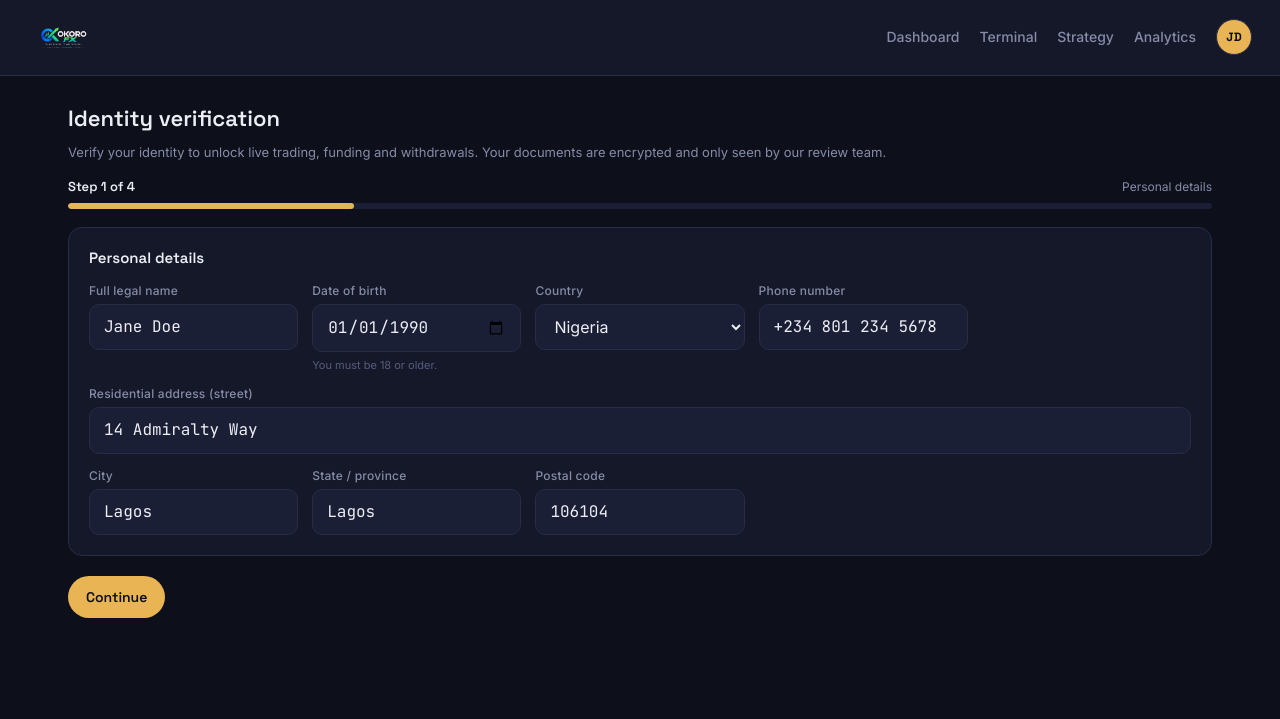
VerificationPage › the review screen trusts the server and blocks submit when the number is missing
expect the field labelled "Full legal name" is shown: met, box x1=89 y1=304 x2=298 y2=350
Step 1. Click the button "Continue" → point(117, 597), box x1=68 y1=576 x2=165 y2=618
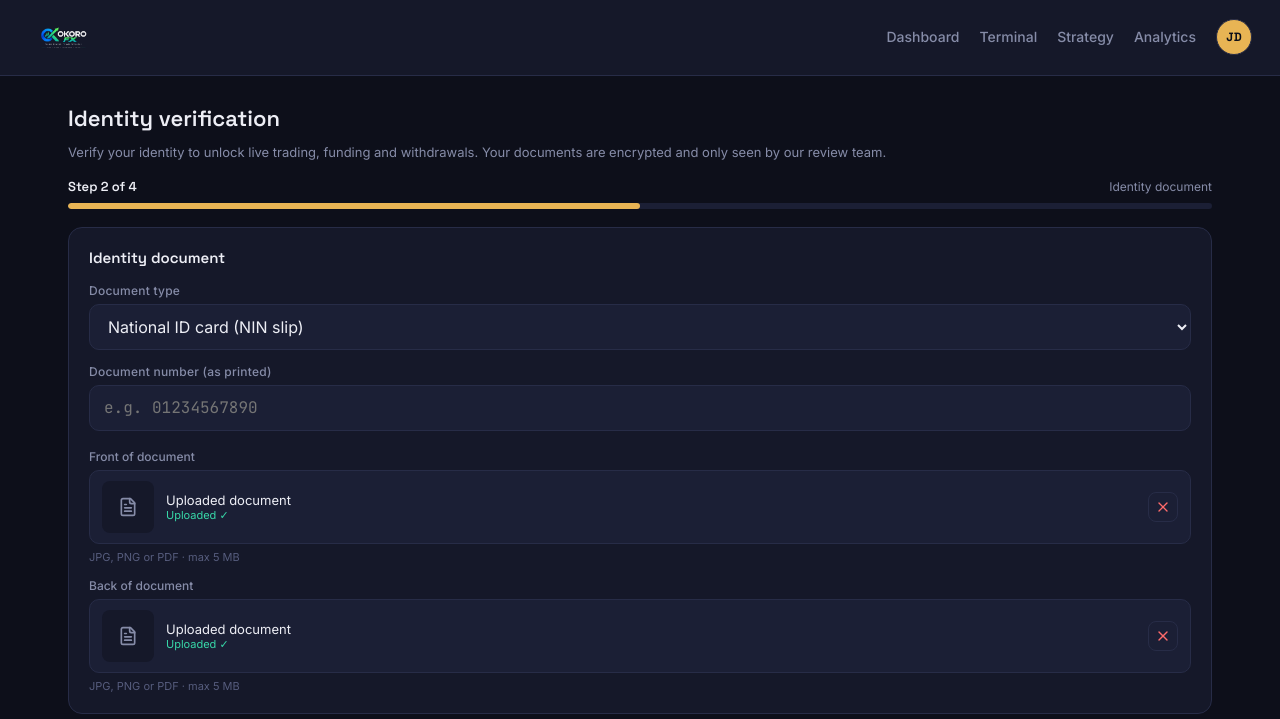
expect the dropdown labelled "Document type" is shown: met, box x1=89 y1=304 x2=1191 y2=350
Step 2. Type "89234567890" into the field labelled "Document number (as printed)" → point(640, 408), box x1=89 y1=385 x2=1191 y2=431
(page scrolled)
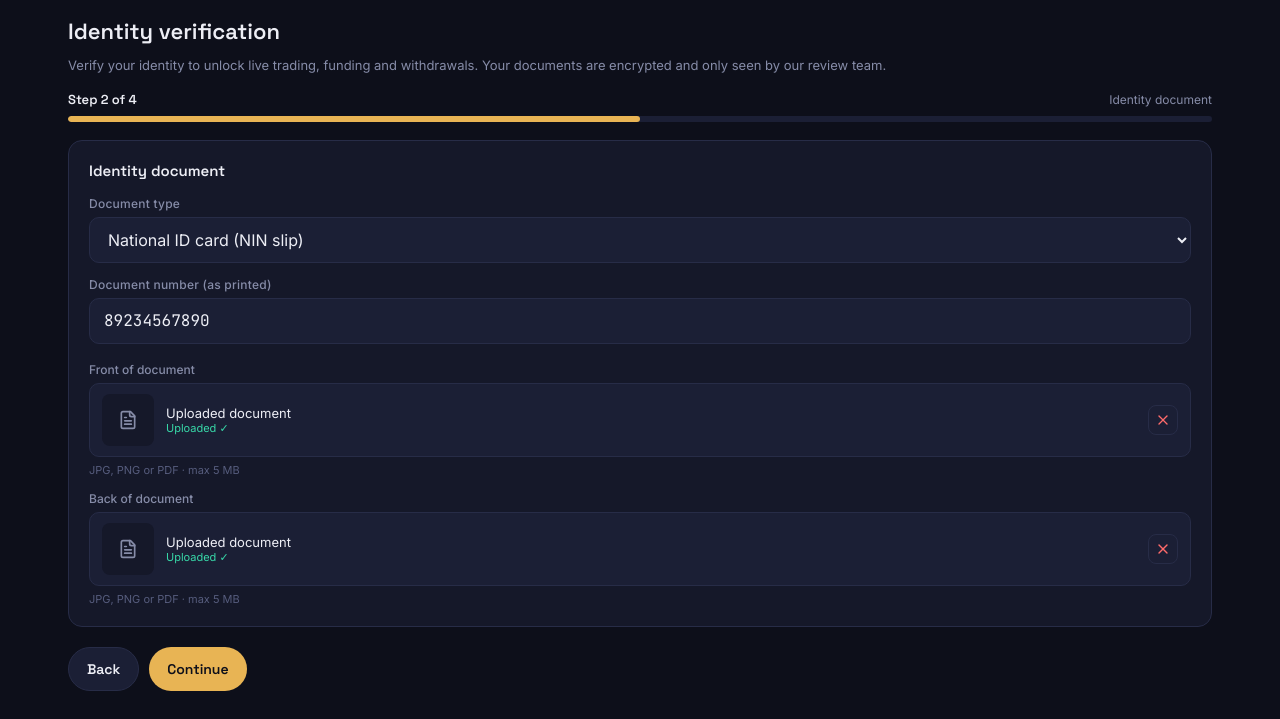
Step 3. Click the button "Continue" → point(198, 669), box x1=149 y1=647 x2=247 y2=691
(page scrolled)
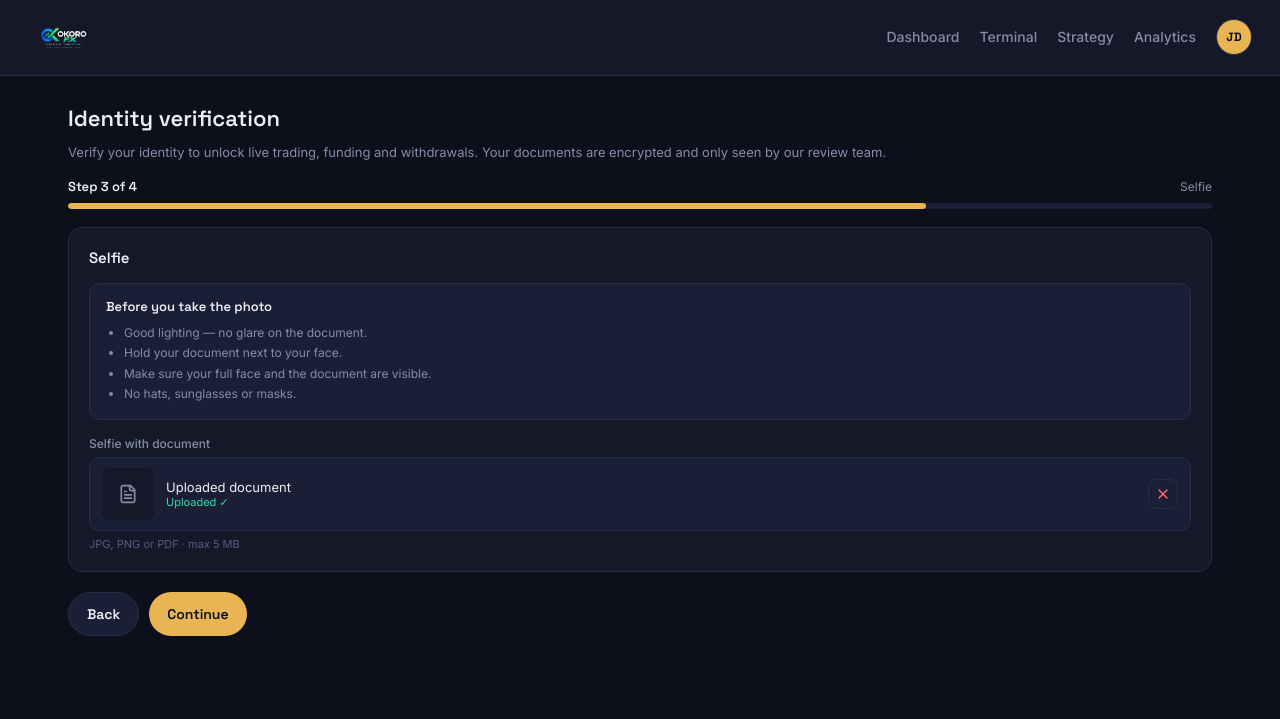
expect the text "Selfie with document" is shown: met, box x1=89 y1=436 x2=210 y2=451
Step 4. Click the button "Continue" → point(198, 614), box x1=149 y1=592 x2=247 y2=636
(page scrolled)
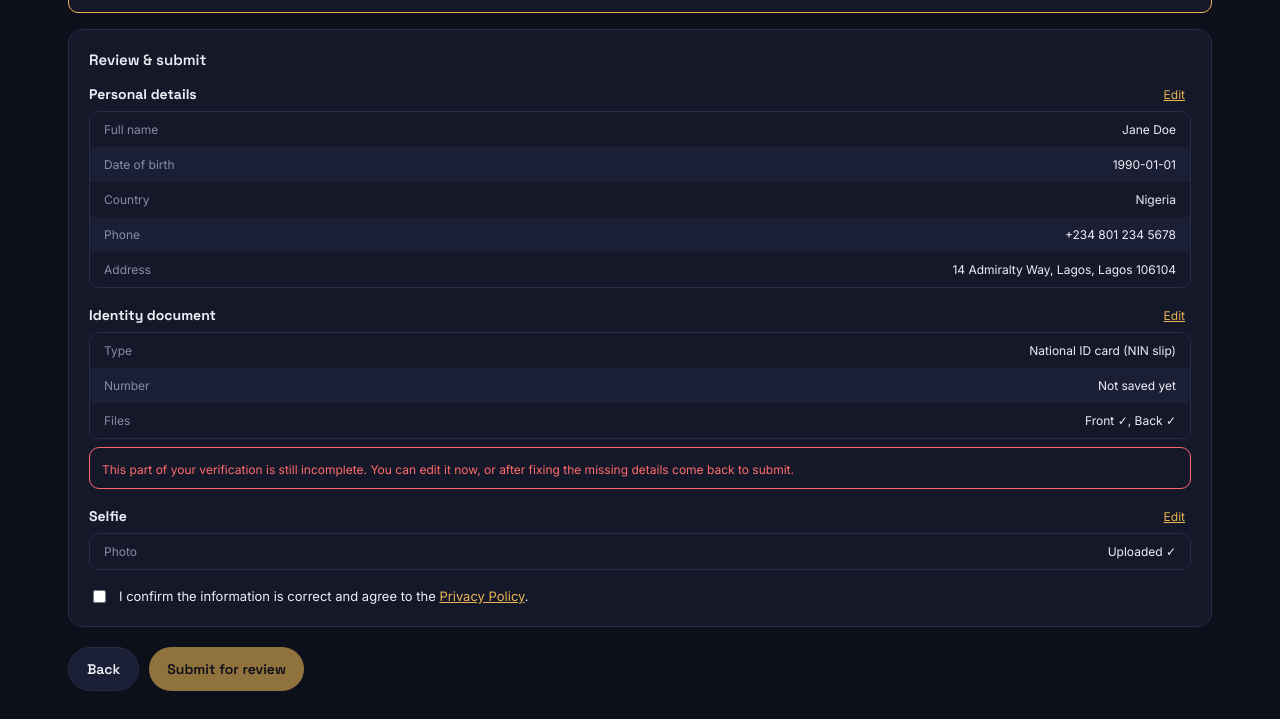
expect the heading "Review & submit" is shown: met, box x1=89 y1=50 x2=206 y2=69
expect the button "Submit for review" is disabled: met, box x1=149 y1=647 x2=304 y2=691
expect the text "still incomplete" is shown once: met, box x1=102 y1=462 x2=794 y2=477
